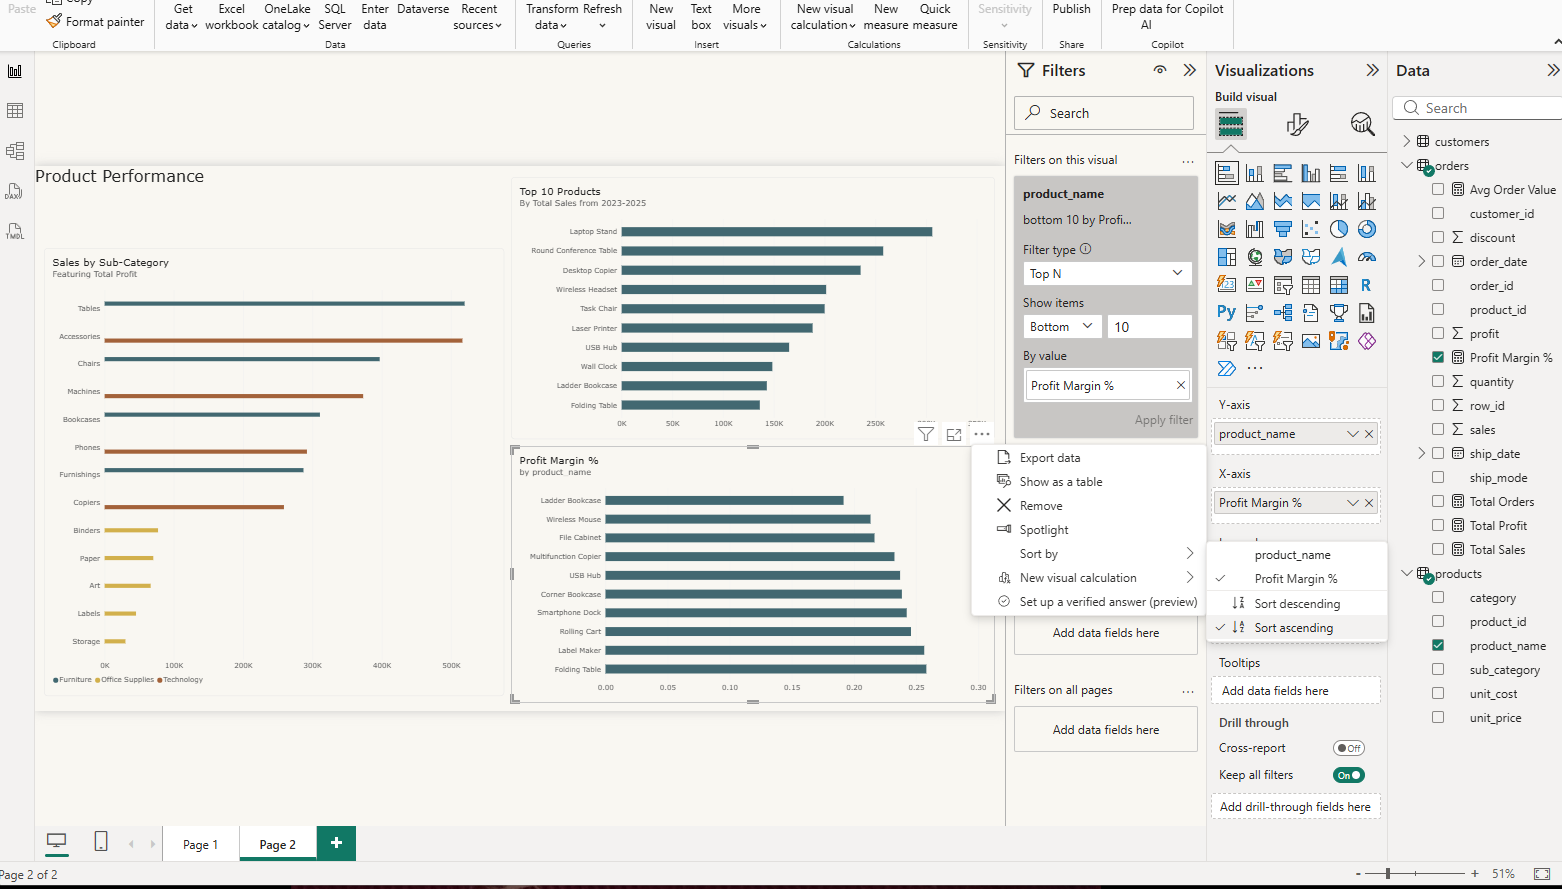

The dashboard page shown, as its layout file describes it:
{"tool":"powerbi","page":{"name":"Page 2","canvas":[1920,1080],"ordinal":1},"visuals":[{"type":"textbox","box":[20.2,0,374.2,42.9],"z":0},{"type":"barChart","title":"Sales by Sub-Category","fields":{"Category":["products.sub_category"],"Y":["orders.Total Sales"],"Series":["products.category"]},"box":[20.2,401.5,895.9,651.2],"z":1000},{"type":"barChart","title":"Top 10 Products","fields":{"Category":["products.product_name"],"Y":["orders.Total Sales"],"Series":["products.category"]},"box":[946.5,43.9,958.3,497.7],"z":2000},{"type":"barChart","title":"Bottom 10 Products","fields":{"Category":["products.product_name"],"Y":["orders.Profit Margin %"],"Series":["products.category"]},"box":[946.5,555.1,958.3,497.7],"z":3000},{"type":"slicer","fields":{"Values":["orders.order_date"]},"box":[20.2,43.9,895.9,150.2],"z":4000},{"type":"slicer","fields":{"Values":["products.category"]},"box":[20.2,216,895.9,167],"z":5000}]}

Visuals, with their boxes on the page's 1920x1080 design canvas (x1, y1, x2, y2). These are canvas units, not pixel positions in the 1562x889 screenshot, which may show the page scaled, cropped or inside an application window:
textbox: (left=20, top=0, right=394, bottom=43)
"Sales by Sub-Category" barChart: (left=20, top=402, right=916, bottom=1053)
"Top 10 Products" barChart: (left=946, top=44, right=1905, bottom=542)
"Bottom 10 Products" barChart: (left=946, top=555, right=1905, bottom=1053)
slicer - orders.order_date: (left=20, top=44, right=916, bottom=194)
slicer - products.category: (left=20, top=216, right=916, bottom=383)
